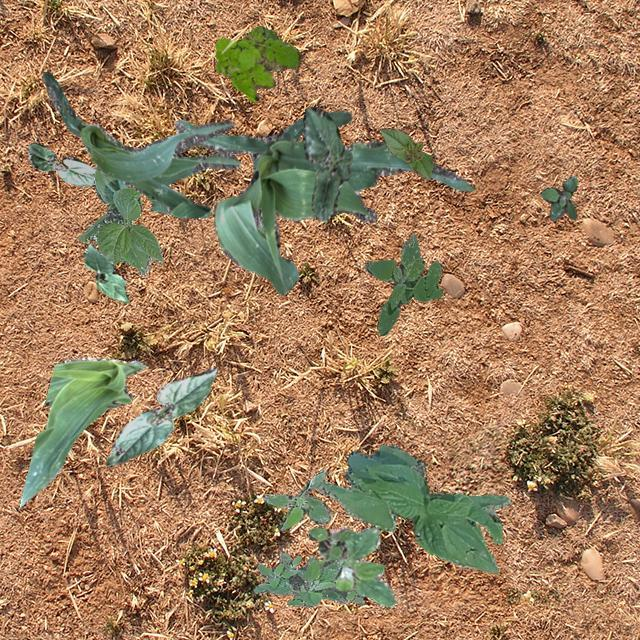crop: (174, 110, 474, 294), (42, 72, 240, 216), (314, 444, 510, 572), (18, 356, 144, 506), (105, 366, 216, 466), (76, 166, 162, 274), (302, 106, 351, 220), (27, 142, 94, 186), (82, 242, 128, 302), (379, 128, 432, 178), (145, 195, 169, 212)
weed: (364, 232, 442, 334), (308, 524, 396, 606), (214, 26, 300, 101), (252, 552, 362, 606), (262, 468, 330, 530), (540, 176, 576, 220)
